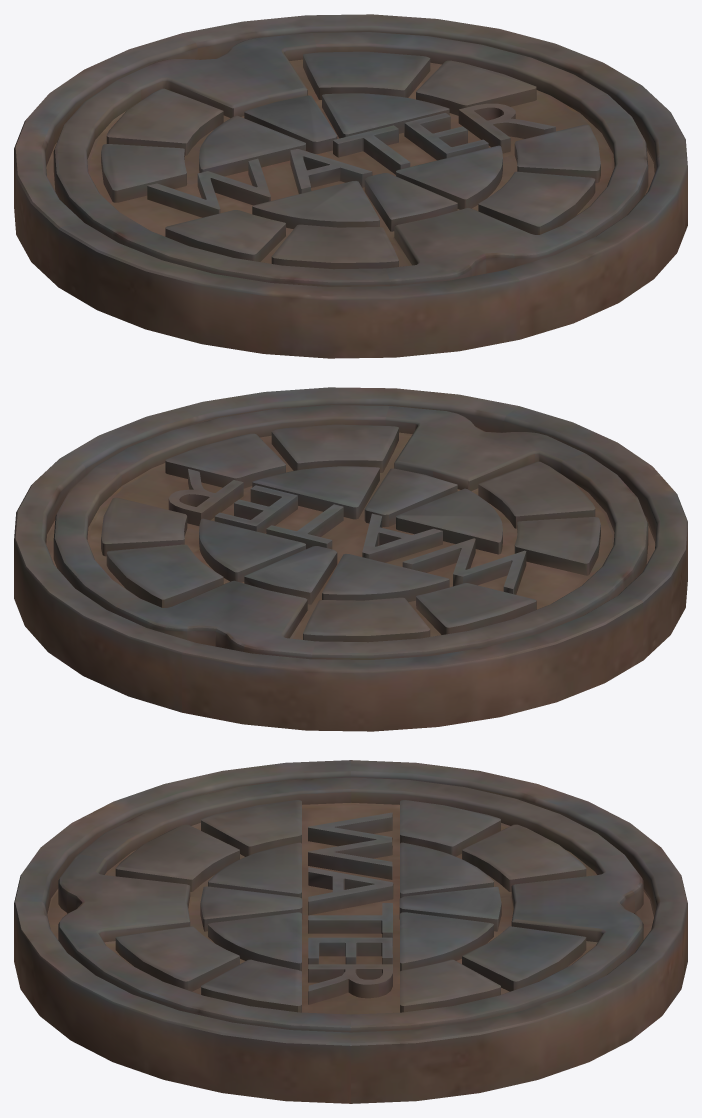
The model's file is manhole_cover.glb.
3 views of the same model, one above another, from view 1: azimuth 30°, elevation 25°; view 2: azimuth 150°, elevation 25°; view 3: azimuth 270°, elevation 25° (orthographic).
Parts seen in each view (by area): view 1: manhole_cover; view 2: manhole_cover; view 3: manhole_cover.
Boxes of the visible parts, box(x1,y1,x2,y2) form: manhole_cover: box(14, 14, 687, 358); manhole_cover: box(14, 387, 687, 731); manhole_cover: box(14, 760, 687, 1103).
Size of the model in its own units: 0.6908 by 0.0676 by 0.6908.
1 material, 1 textured.
